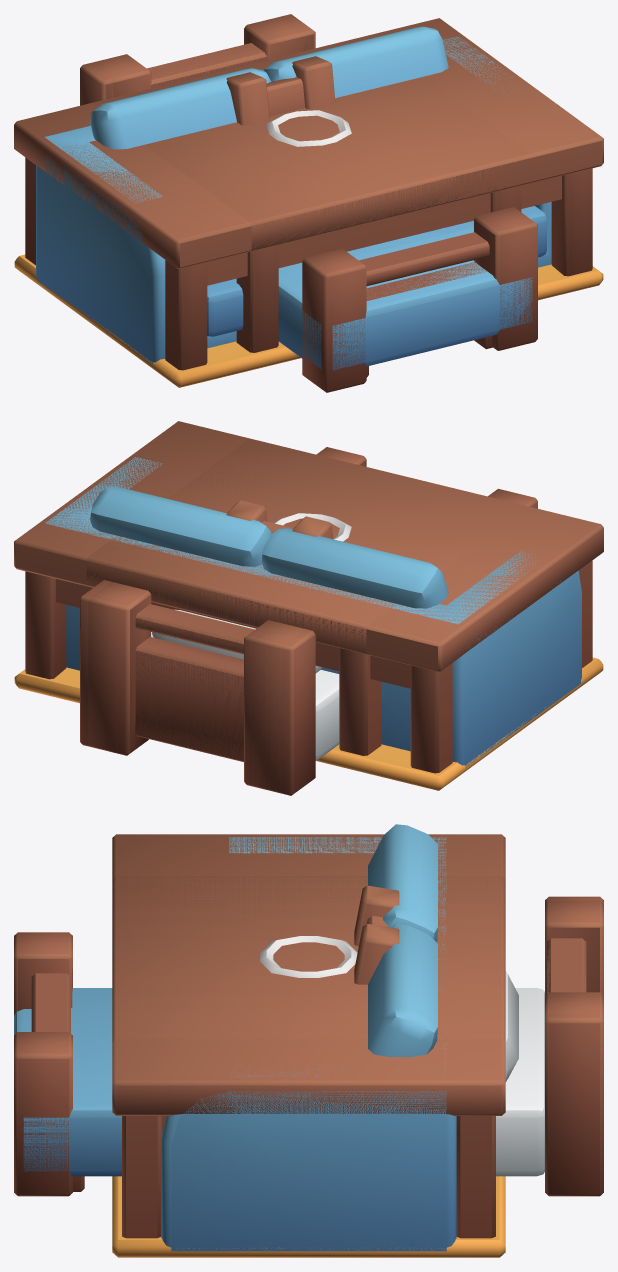
Rendered from furniture-kit.glb.
3 renders of one model, top to bottom at view 1: azimuth 30°, elevation 25°; view 2: azimuth 150°, elevation 25°; view 3: azimuth 270°, elevation 25°, orthographic. The views are drawn at different scales.
Parts seen in each view (by area): view 1: table_medium_long, table_medium, couch, bed_single_B, bed_single_A, rug_rectangle_stripes_A, chair_A_wood, lamp_table; view 2: table_medium_long, couch, bed_single_A, table_medium, bed_single_B, rug_rectangle_stripes_A, chair_A_wood, lamp_table; view 3: table_medium_long, couch, table_medium, bed_single_B, bed_single_A, rug_rectangle_stripes_A, chair_A_wood, lamp_table.
Part boxes in pixels (<box>): table_medium_long: <box>14,18,603,370</box>; table_medium: <box>89,36,529,352</box>; couch: <box>36,26,551,364</box>; bed_single_B: <box>80,14,537,392</box>; bed_single_A: <box>90,16,532,377</box>; rug_rectangle_stripes_A: <box>14,254,603,387</box>; chair_A_wood: <box>226,56,335,125</box>; lamp_table: <box>266,110,351,146</box>; table_medium_long: <box>14,421,603,773</box>; couch: <box>45,457,581,767</box>; bed_single_A: <box>88,581,339,791</box>; table_medium: <box>86,438,477,755</box>; bed_single_B: <box>80,447,537,795</box>; rug_rectangle_stripes_A: <box>14,657,603,790</box>; chair_A_wood: <box>226,500,333,538</box>; lamp_table: <box>273,513,351,541</box>; table_medium_long: <box>112,834,505,1238</box>; couch: <box>161,824,456,1251</box>; table_medium: <box>112,876,505,1041</box>; bed_single_B: <box>14,896,603,1196</box>; bed_single_A: <box>14,900,603,1191</box>; rug_rectangle_stripes_A: <box>112,1176,505,1257</box>; chair_A_wood: <box>354,885,399,984</box>; lamp_table: <box>260,936,357,977</box>.
Bounding box in the file's own units: 3 × 1.51 × 3.
1 material, 1 textured.
